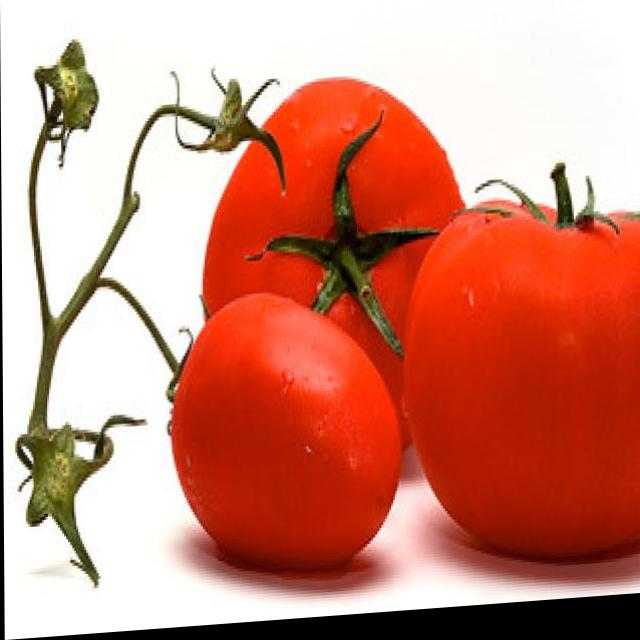kirmizi: (168, 35, 640, 610)
